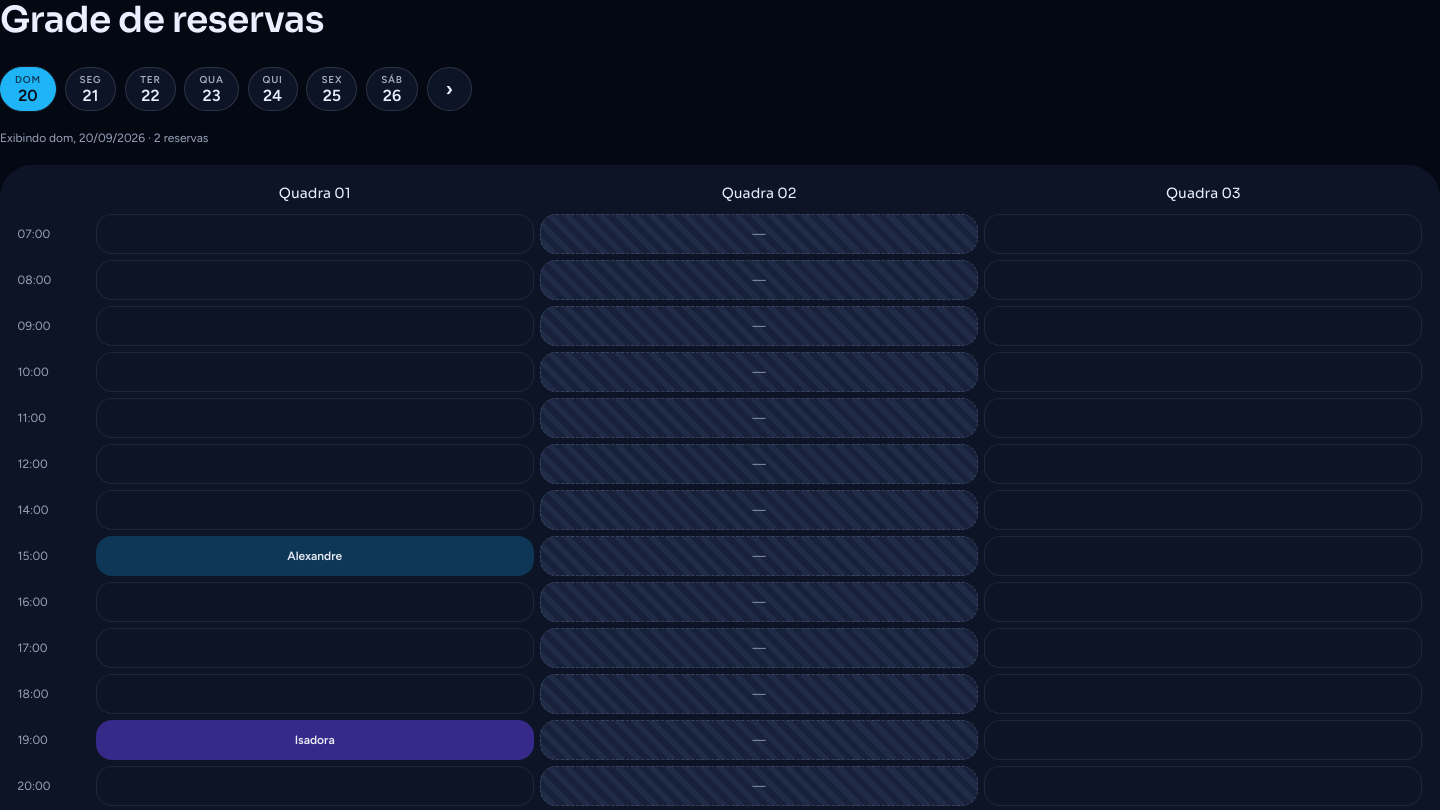
it: GradeReservasPage › abre o detalhe e cancela a reserva após a confirmação
What coordinates should you click on to do the following:
click the button with aria-label "Quadra 01 às 19:00 — Isadora"
I would click on:
 (315, 740)
Its box is [96, 720, 534, 760].
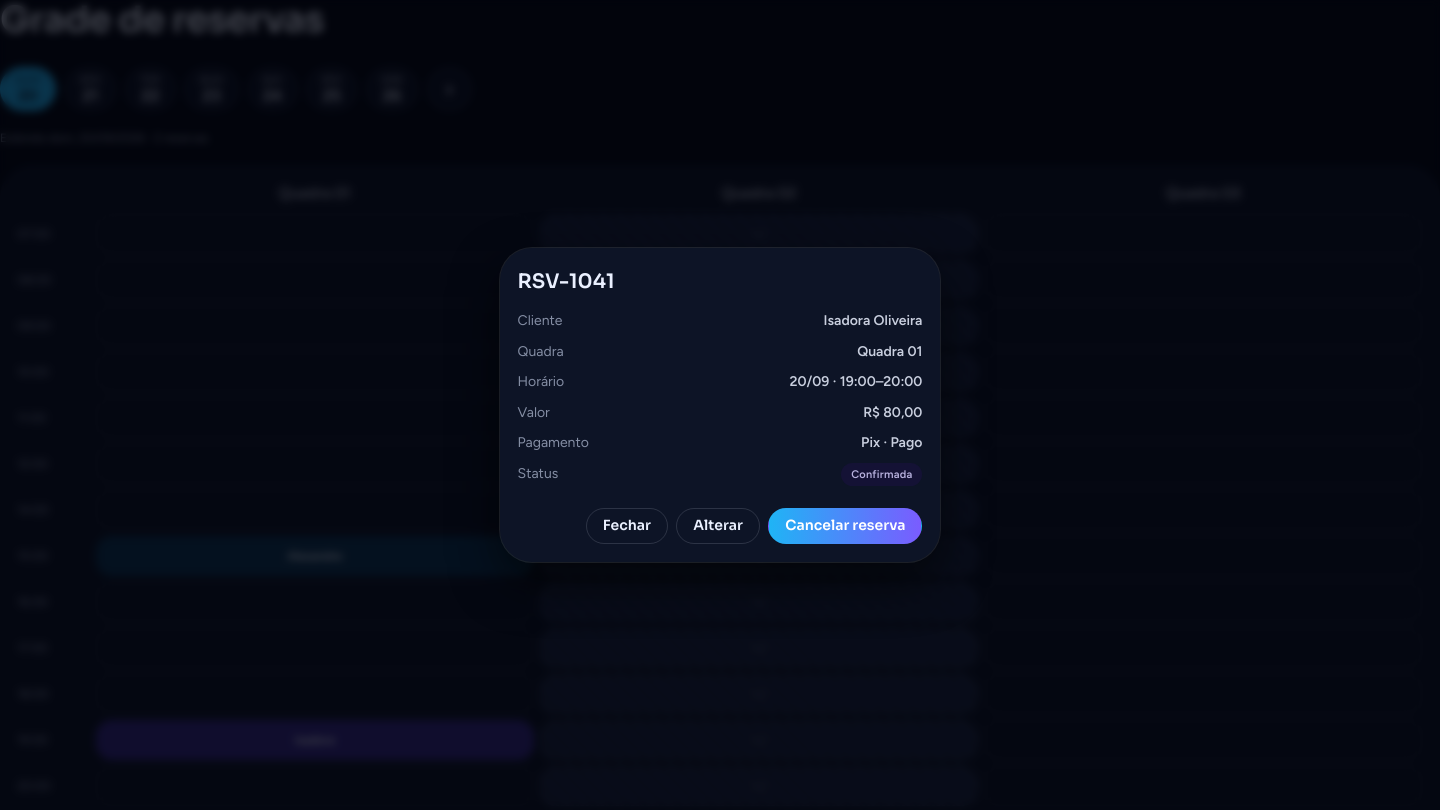
Expected: the text "Isadora Oliveira" is shown, [824, 310, 922, 332]
Expected: the text "Quadra 01" is shown, [857, 341, 922, 362]
Expected: the text "20/09 · 19:00–20:00" is shown, [790, 371, 922, 393]
What coordinates should you click on to do the following:
click the button "Cancelar reserva"
I would click on:
 (846, 526)
Its box is [768, 508, 922, 544].
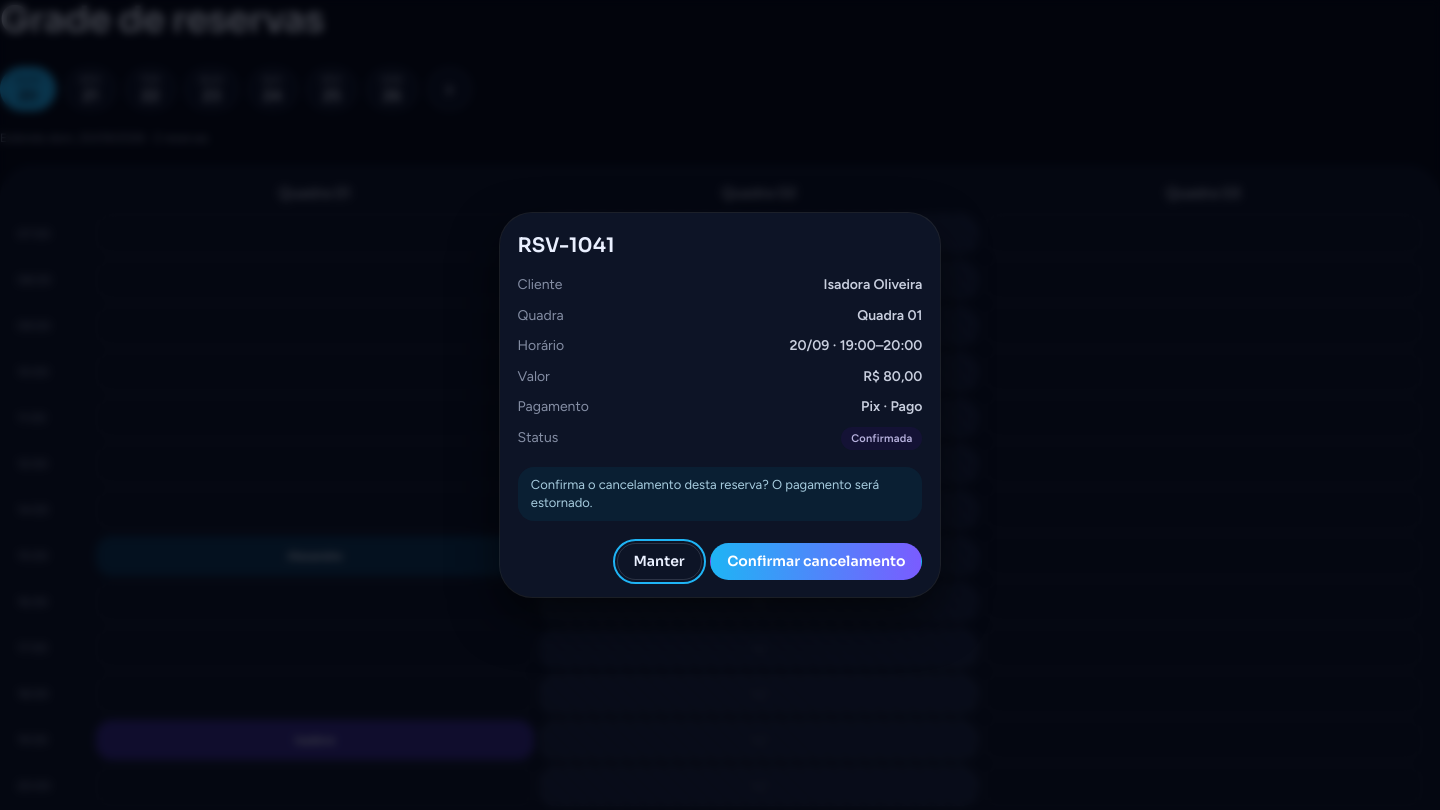
Expected: the message reads "Confirma o cancelamento desta reserva? O pagamento será estornado.", [518, 468, 922, 522]
Expected: the button "Alterar" is gone
What coordinates should you click on to do the following:
click the button "Confirmar cancelamento"
I would click on:
 (816, 562)
Its box is [710, 543, 922, 580].
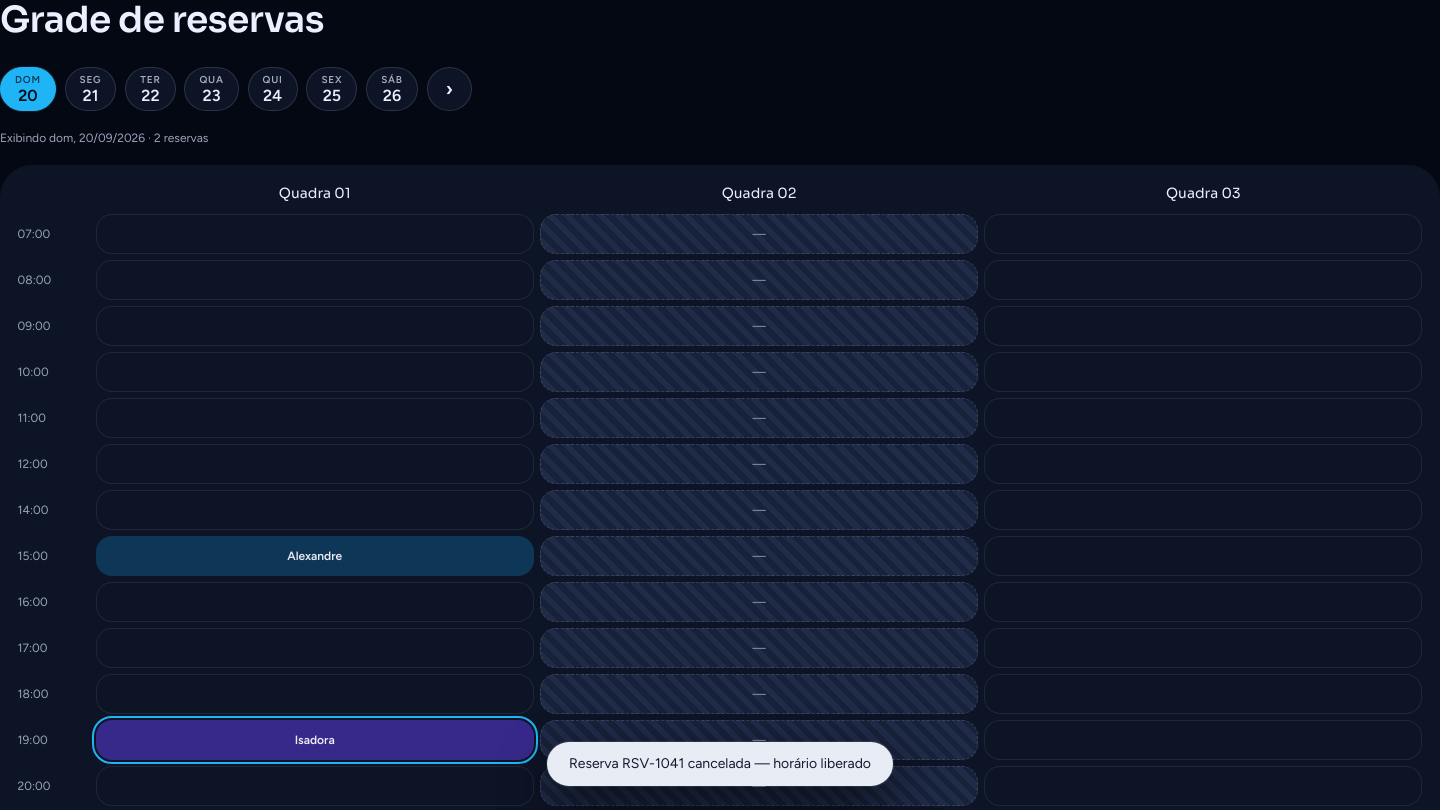
Expected: the text "Reserva RSV-1041 cancelada — horário liberado" is shown, [547, 742, 893, 786]
Expected: the dialog is gone
